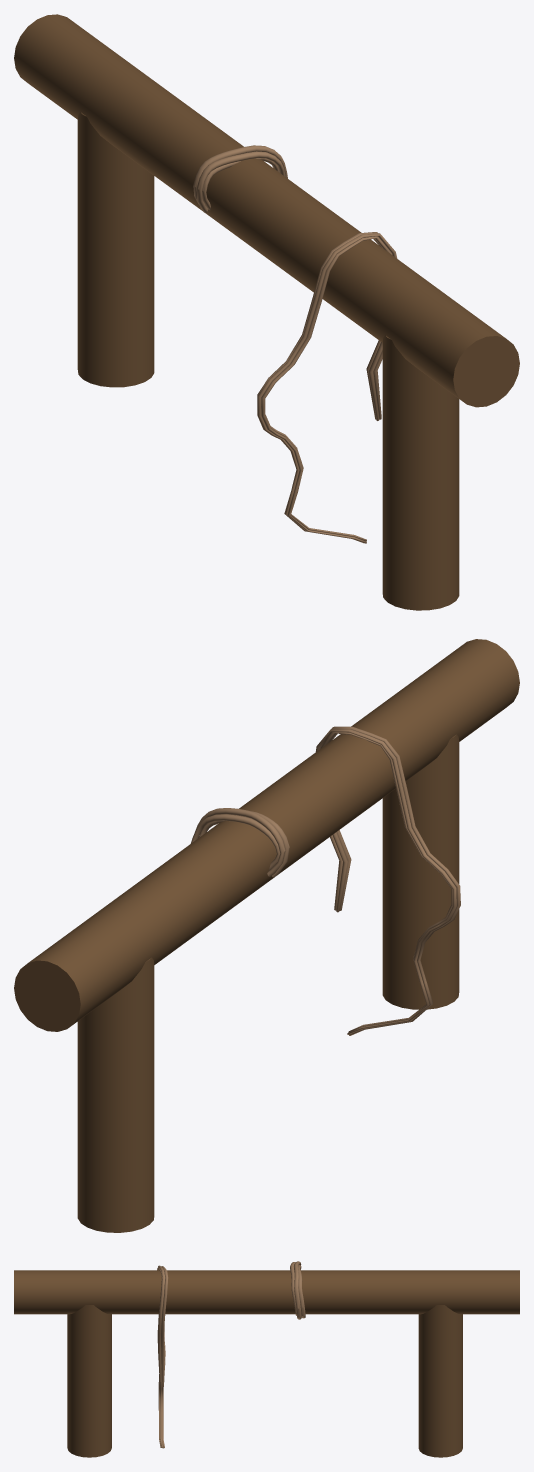
Rendered from Hitching Post.fbx.
3 views of the same model, one above another, from view 1: azimuth 30°, elevation 25°; view 2: azimuth 150°, elevation 25°; view 3: azimuth 270°, elevation 25° (orthographic). The views are drawn at different scales.
Parts seen in each view (by area): view 1: pCylinder21; view 2: pCylinder21; view 3: pCylinder21.
Part boxes in pixels (<box>): pCylinder21: <box>14,14,519,610</box>; pCylinder21: <box>14,639,519,1232</box>; pCylinder21: <box>14,1261,519,1457</box>.
Bounding box in the file's own units: 1.16 × 2.33 × 5.88.
